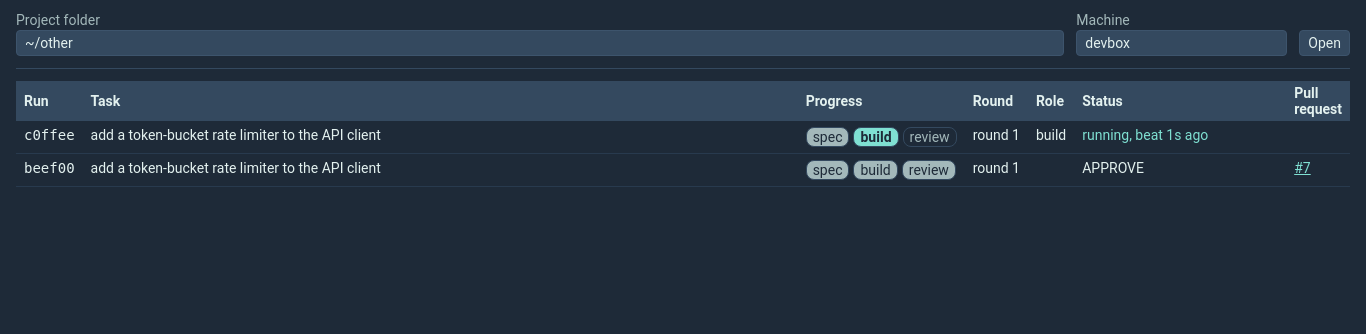
the run detail › says when a file cannot be read
Click the row that starts with "c0ffee" at (683, 137), box [16, 121, 1350, 154]
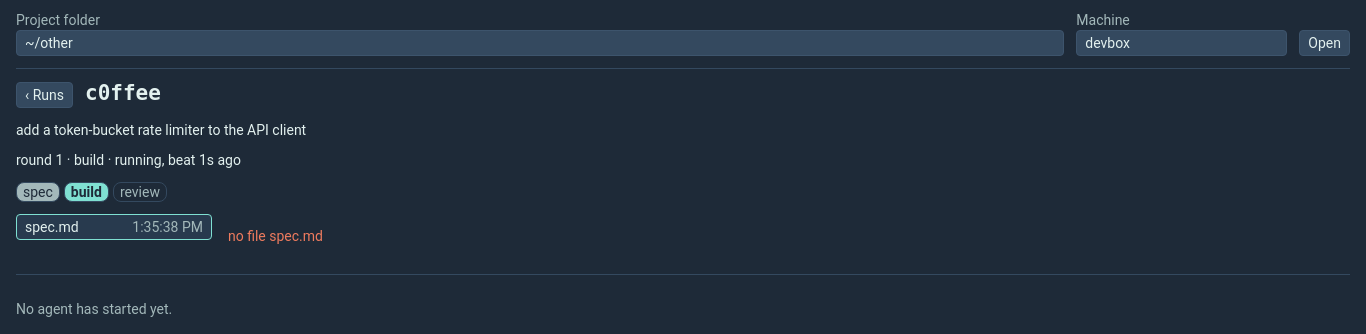
Check: the text "no file spec.md" is shown, box [228, 228, 323, 244]
